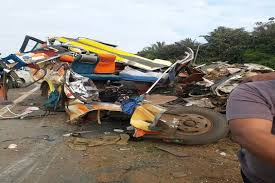accident: (22, 45, 212, 136)
